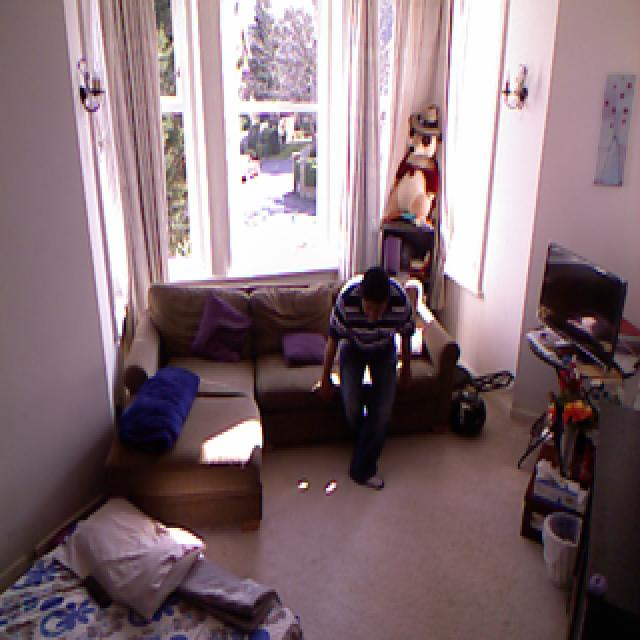bending: (310, 266, 416, 496)
